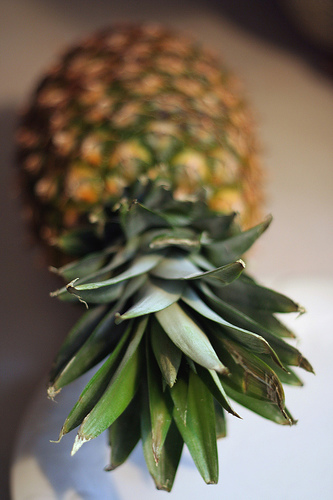pineapple: (11, 18, 315, 493)
